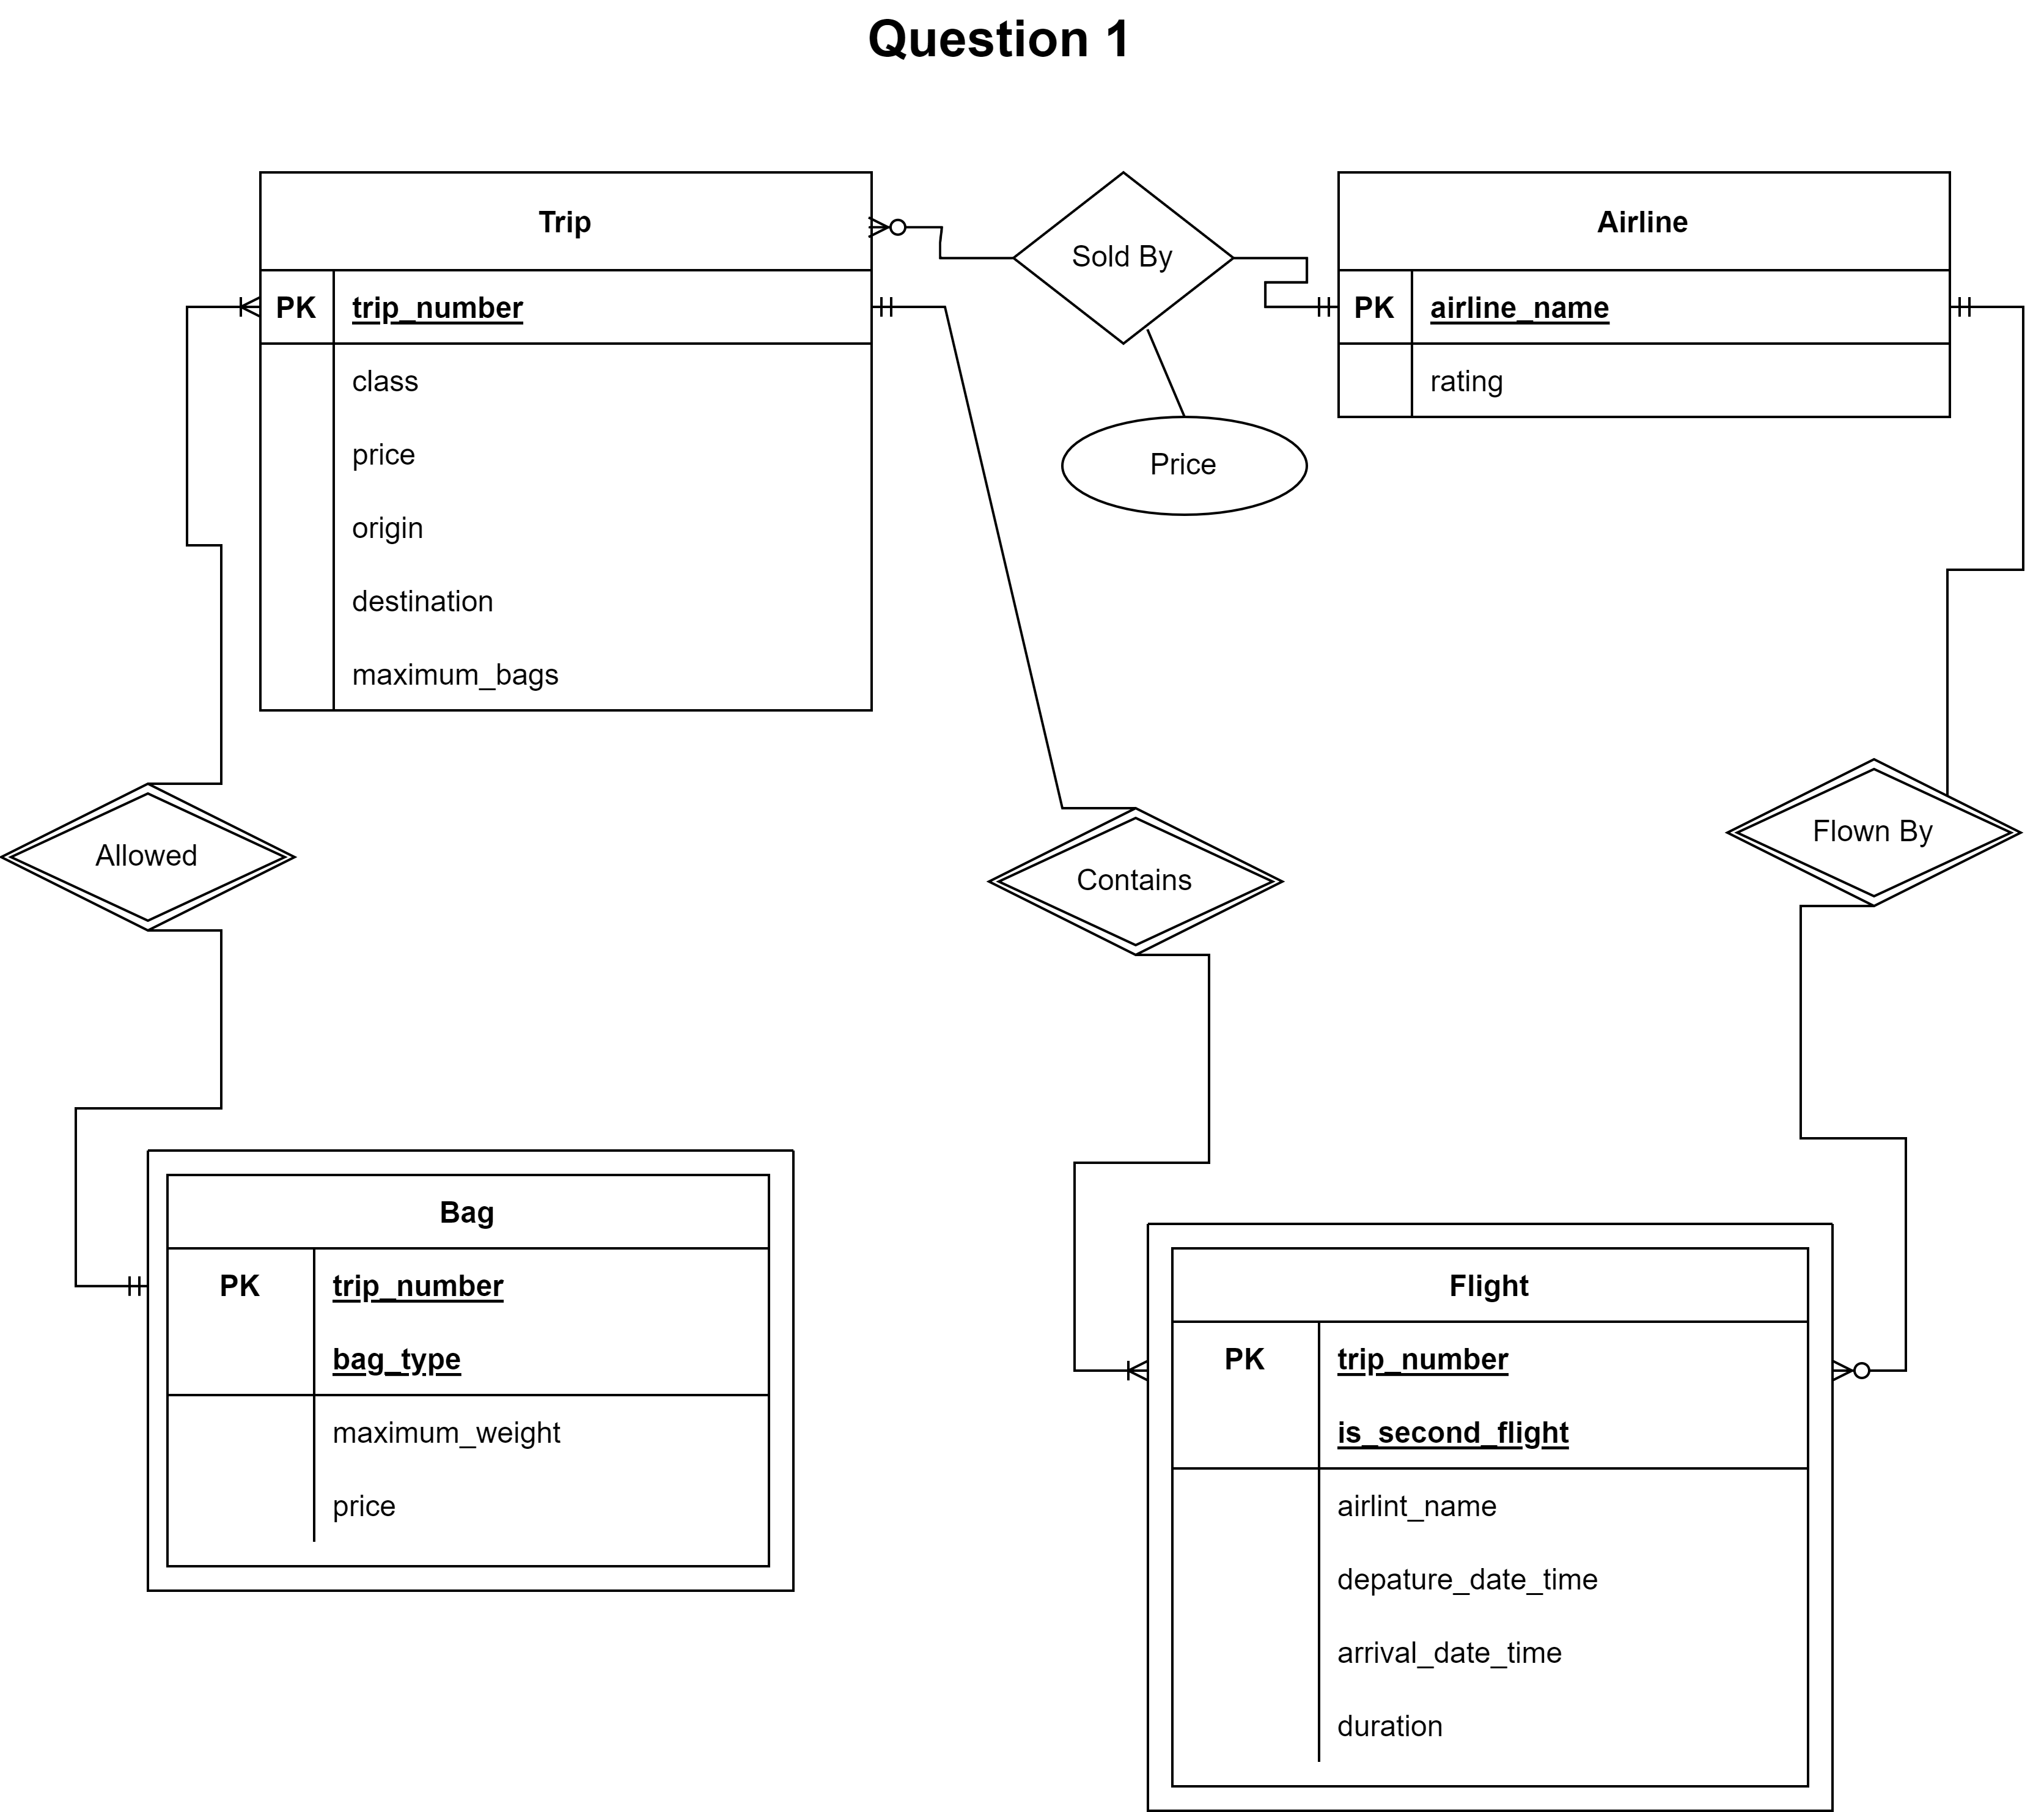entity: (261, 175, 874, 707), (1338, 168, 1951, 420)
ident_rel: (1719, 752, 2021, 908), (986, 803, 1283, 958), (0, 784, 297, 936)
many: (867, 201, 942, 252), (1829, 1342, 1885, 1396), (205, 280, 264, 327), (1095, 1340, 1151, 1387)
one: (1948, 276, 2002, 331), (91, 1256, 145, 1305), (866, 283, 923, 322), (1290, 290, 1338, 324)
rel: (1018, 173, 1231, 350)
rel_attr: (1058, 418, 1306, 516)
weak_entity: (1149, 1217, 1831, 1803), (149, 1149, 789, 1599)
